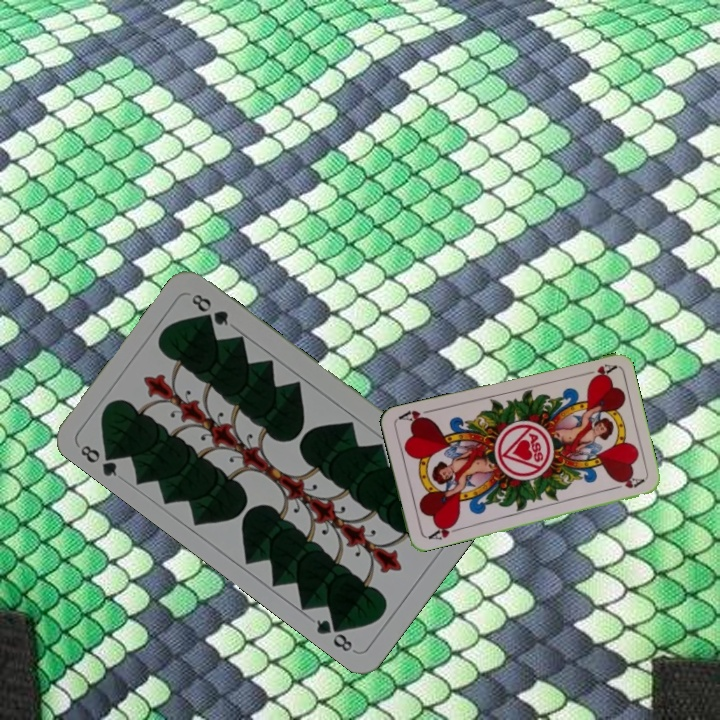G8: (76, 441, 122, 480)
HA: (423, 519, 463, 542), (577, 360, 618, 382)
